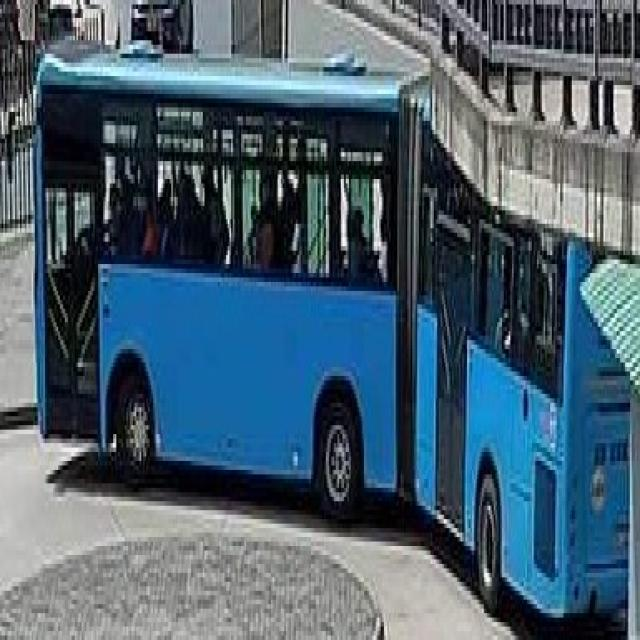bus: (35, 54, 640, 616)
